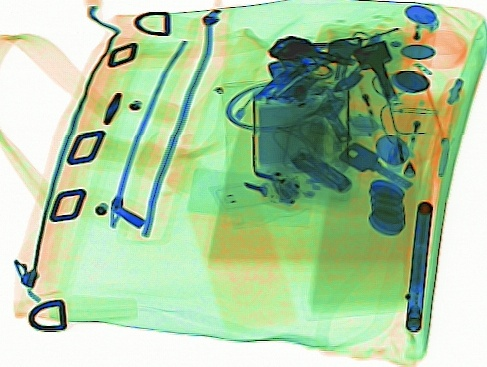lighter: (345, 58, 400, 148), (396, 85, 435, 168)
